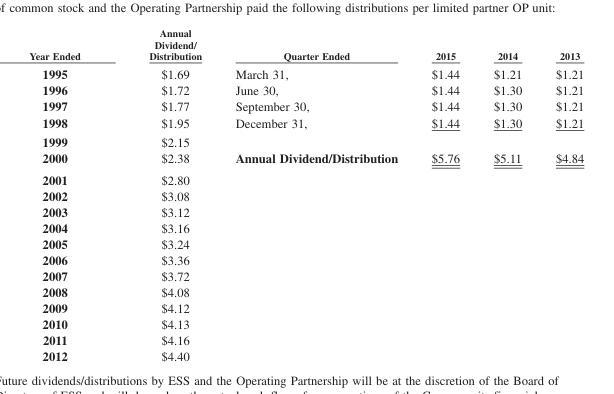table: (28, 28, 583, 363)
table column: (217, 28, 413, 363), (114, 28, 217, 363), (28, 28, 114, 363), (413, 28, 476, 363), (476, 28, 538, 363), (538, 28, 583, 363)
table column header: (28, 28, 583, 64)
table row: (28, 28, 583, 64), (28, 150, 583, 169), (28, 169, 583, 188), (28, 64, 583, 82), (28, 132, 583, 150), (28, 98, 583, 115), (28, 115, 583, 132), (28, 82, 583, 98), (28, 188, 583, 204), (28, 204, 583, 220), (28, 220, 583, 236), (28, 236, 583, 252), (28, 252, 583, 268), (28, 268, 583, 284), (28, 284, 583, 300), (28, 300, 583, 316), (28, 316, 583, 332), (28, 332, 583, 348), (28, 348, 583, 363)
